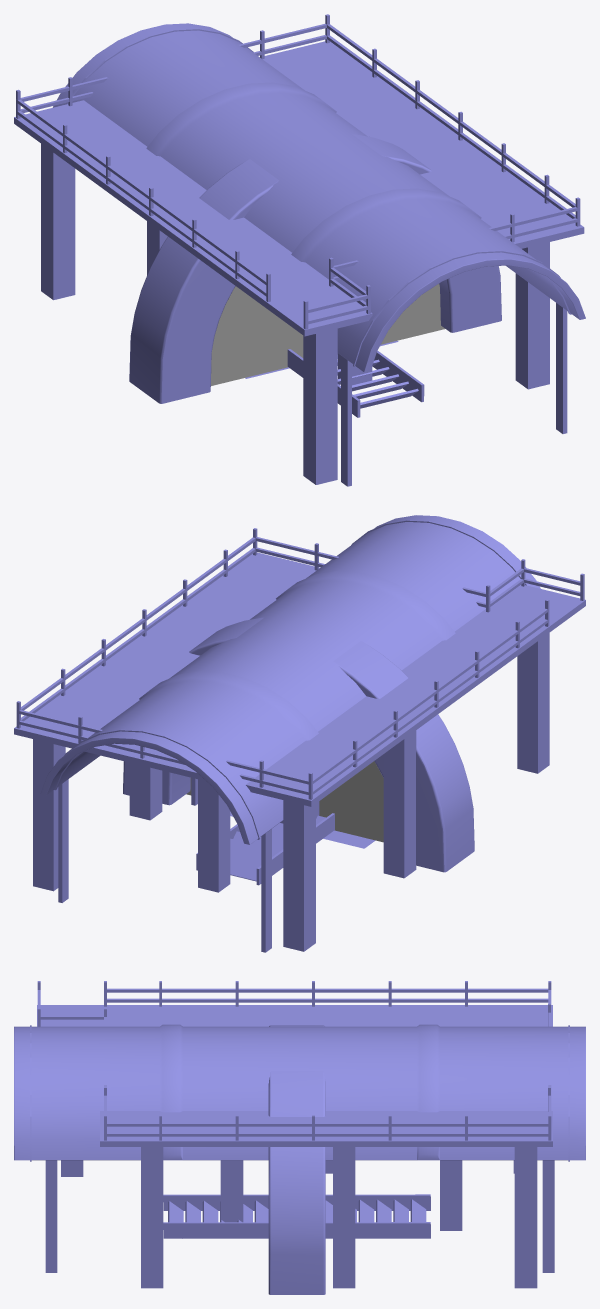
The model's file is Track Props.fbx.
The picture shows the model from 3 angles, top to bottom: view 1: azimuth 30°, elevation 25°; view 2: azimuth 150°, elevation 25°; view 3: azimuth 270°, elevation 25°; orthographic projection. The views are drawn at different scales.
Visible parts, largest first — view 1: Fact_Structr, Camp, Racing_Sign1, Net_Bars1, Racing_Sign, Stairs; view 2: Fact_Structr, Camp, Racing_Sign1, Racing_Sign, Net_Bars1, Stairs; view 3: Camp, Fact_Structr, Racing_Sign1, Stairs, Racing_Sign.
Part boxes in pixels (bbox=[...]): Fact_Structr: bbox=[14, 14, 584, 484]; Camp: bbox=[53, 23, 585, 486]; Racing_Sign1: bbox=[129, 166, 501, 403]; Net_Bars1: bbox=[211, 284, 445, 385]; Racing_Sign: bbox=[151, 134, 431, 288]; Stairs: bbox=[287, 349, 424, 417]; Fact_Structr: bbox=[14, 528, 585, 951]; Camp: bbox=[40, 515, 540, 952]; Racing_Sign1: bbox=[123, 648, 474, 872]; Racing_Sign: bbox=[189, 617, 453, 764]; Net_Bars1: bbox=[186, 761, 383, 842]; Stairs: bbox=[196, 813, 334, 885]; Camp: bbox=[14, 1024, 585, 1272]; Fact_Structr: bbox=[37, 981, 552, 1288]; Racing_Sign1: bbox=[268, 1072, 325, 1294]; Stairs: bbox=[163, 1194, 430, 1238]; Racing_Sign: bbox=[268, 1025, 325, 1188].
Size of the model in its own units: 1766 by 1044 by 2877.
